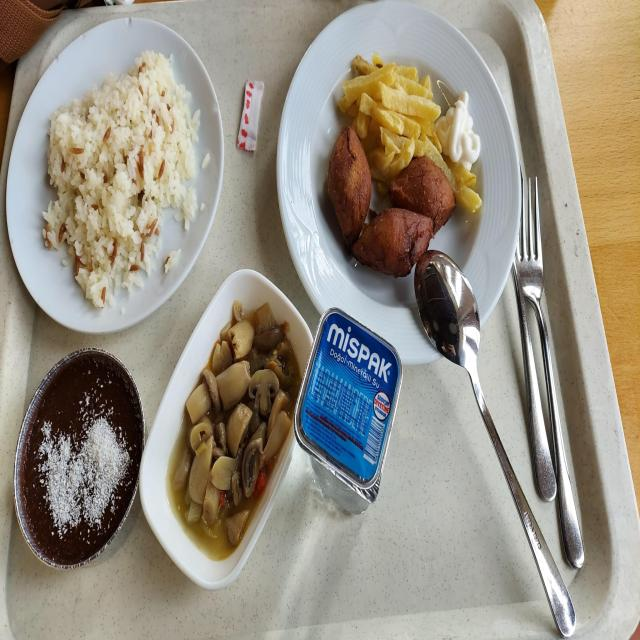ana_yemek: (284, 2, 482, 370), (4, 16, 225, 336)
yan_yemek: (138, 268, 308, 588)
